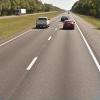Car: (57, 13, 77, 32)
